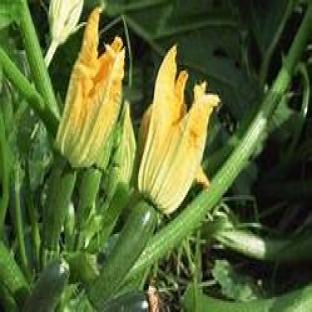Zucchini: (87, 201, 156, 310), (23, 260, 68, 311), (102, 290, 150, 311)
